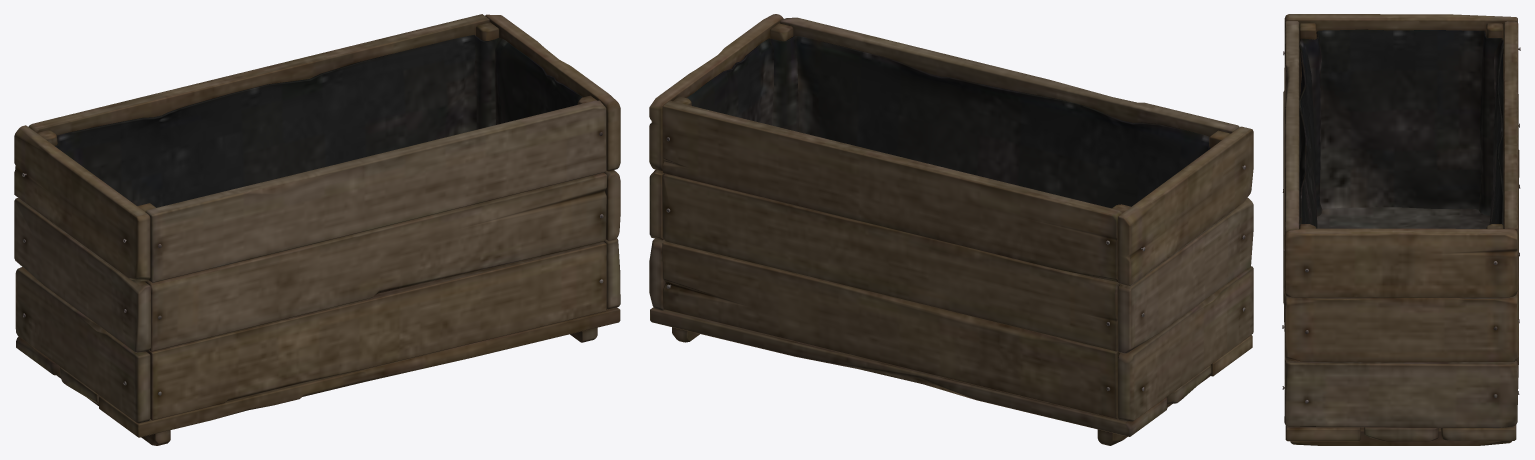
Rendered from planter_box_01.glb.
3 views of the same model, side by side, from view 1: azimuth 30°, elevation 25°; view 2: azimuth 150°, elevation 25°; view 3: azimuth 270°, elevation 25° (orthographic). The views are drawn at different scales.
Parts seen in each view (by area): view 1: planter_box_01; view 2: planter_box_01; view 3: planter_box_01.
Part boxes in pixels (x1,y1,x2,y2): planter_box_01: (14,14,620,445); planter_box_01: (649,14,1253,445); planter_box_01: (1282,14,1520,445).
Bounding box in the file's own units: 0.9126 × 0.425 × 0.4137.
Materials: 1 (1 with a texture image).
